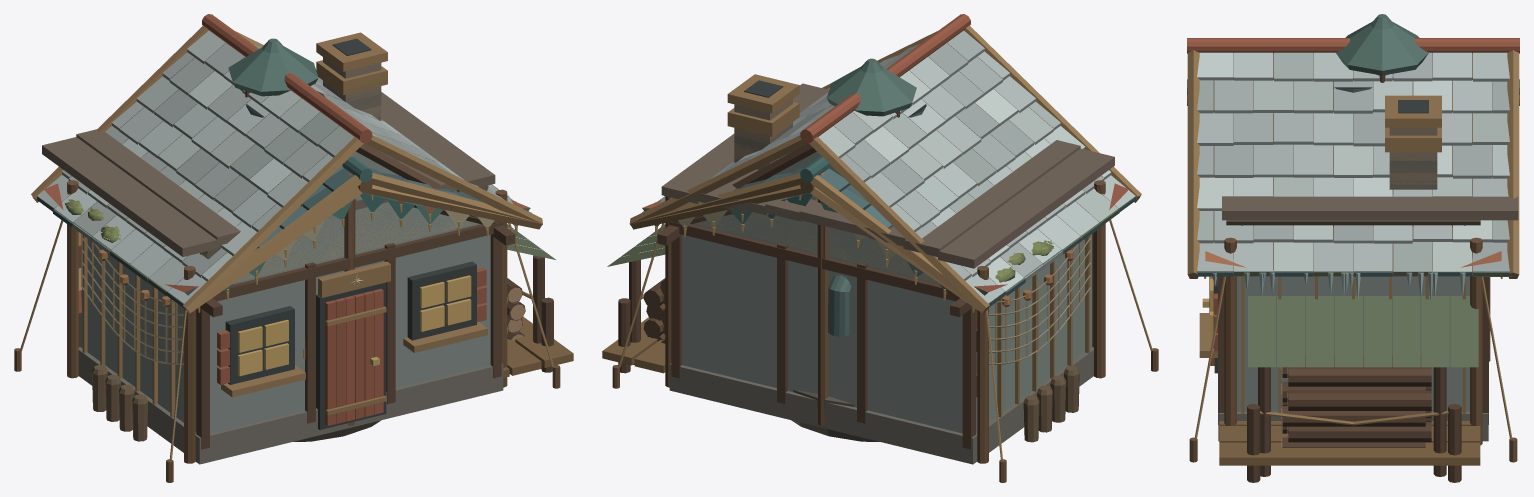
Rendered from landscape.glb.
3 renders of one model, left to right at view 1: azimuth 30°, elevation 25°; view 2: azimuth 150°, elevation 25°; view 3: azimuth 270°, elevation 25°, orthographic. The views are drawn at different scales.
Parts seen in each view (by area): view 1: SnowCamp, LakeCamp, VolcanoCamp, TideCamp, ForestCamp, DesertCamp; view 2: SnowCamp, LakeCamp, VolcanoCamp, TideCamp, ForestCamp, PumpWorks, DesertCamp, CoastKiln; view 3: SnowCamp, ForestCamp, LakeCamp, VolcanoCamp, TideCamp, DesertCamp.
Boxes of the visible parts, left/top/right/bottom form: SnowCamp: left=31, top=14, right=542, bottom=464; LakeCamp: left=36, top=38, right=573, bottom=441; VolcanoCamp: left=42, top=92, right=495, bottom=259; TideCamp: left=14, top=180, right=560, bottom=482; ForestCamp: left=32, top=67, right=555, bottom=343; DesertCamp: left=44, top=157, right=529, bottom=425; SnowCamp: left=629, top=14, right=1141, bottom=464; LakeCamp: left=602, top=58, right=1137, bottom=442; VolcanoCamp: left=661, top=83, right=1114, bottom=268; TideCamp: left=612, top=180, right=1158, bottom=482; ForestCamp: left=607, top=108, right=1139, bottom=364; PumpWorks: left=828, top=275, right=851, bottom=336; DesertCamp: left=642, top=157, right=1128, bottom=425; CoastKiln: left=791, top=389, right=879, bottom=441; SnowCamp: left=1187, top=38, right=1519, bottom=441; ForestCamp: left=1187, top=94, right=1519, bottom=476; LakeCamp: left=1187, top=14, right=1519, bottom=482; VolcanoCamp: left=1222, top=86, right=1518, bottom=226; TideCamp: left=1189, top=237, right=1517, bottom=462; DesertCamp: left=1205, top=251, right=1501, bottom=360.
Size of what is drawn, in the model's own units: 7.05 by 5.71 by 4.6.
